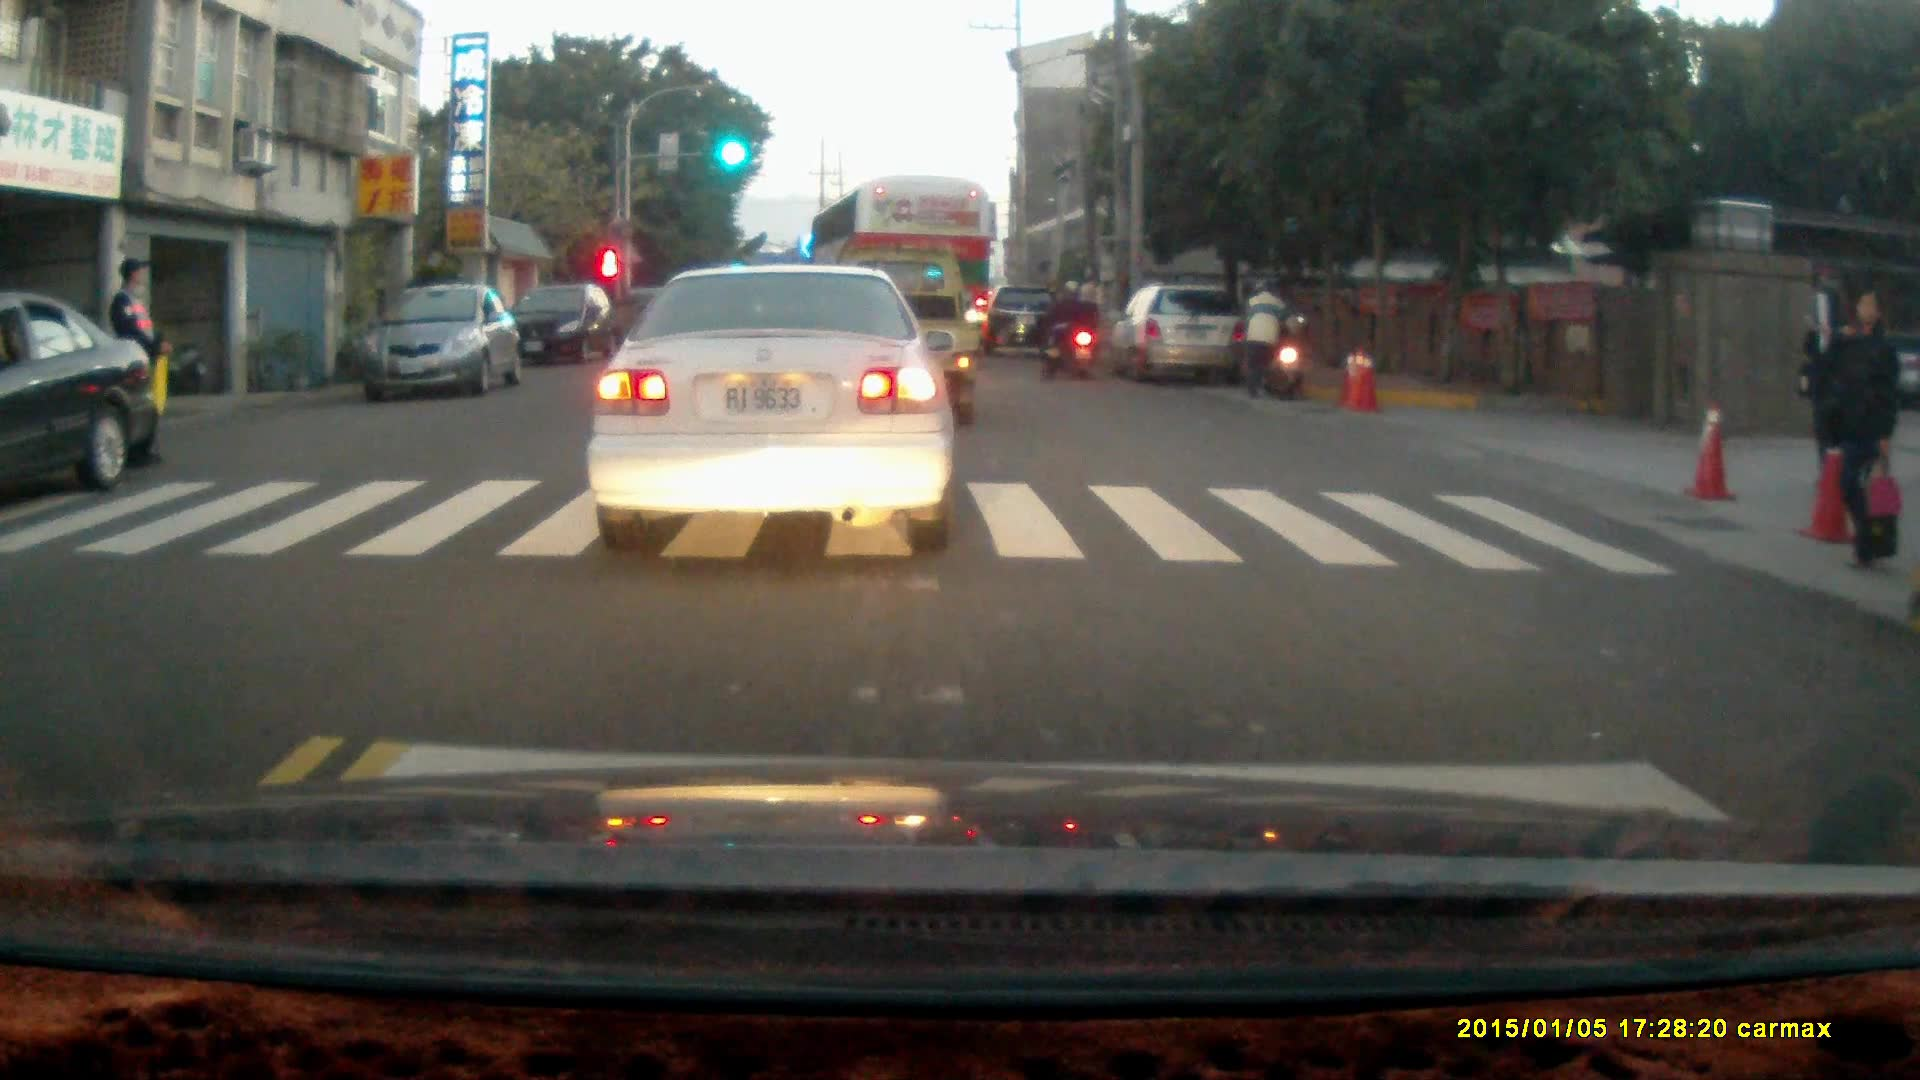pedestrian: (1817, 293, 1899, 570), (105, 255, 168, 469), (1799, 285, 1850, 487), (1239, 278, 1286, 400)
rider: (1037, 275, 1096, 384)
vehicle: (580, 261, 956, 554), (806, 174, 994, 384), (2, 291, 158, 506), (357, 286, 520, 407), (1114, 287, 1248, 388), (507, 281, 621, 367), (982, 285, 1063, 355)
